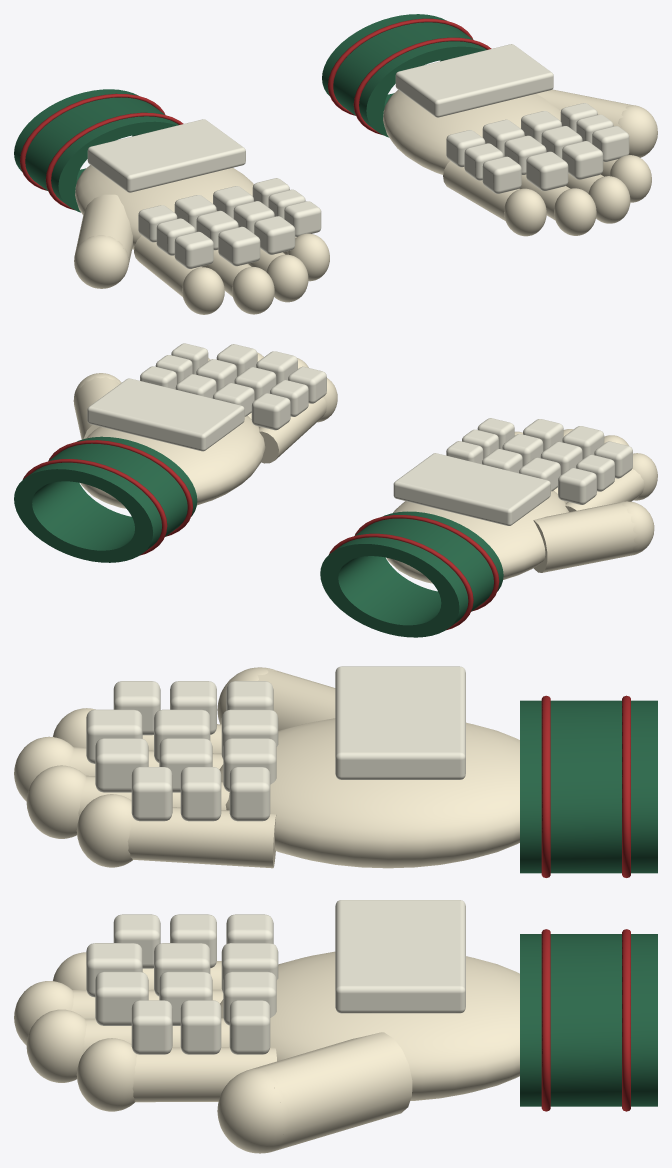
File: cricket-ground-and-pavilion-batting-glove-pair-bef5b89a__31316.glb
The picture shows the model from 3 angles, top to bottom: view 1: azimuth 30°, elevation 25°; view 2: azimuth 150°, elevation 25°; view 3: azimuth 270°, elevation 25°; orthographic projection. The views are drawn at different scales.
Visible parts, largest first — view 1: batting-glove-pair; view 2: batting-glove-pair; view 3: batting-glove-pair.
Boxes of the visible parts, box(x1,y1,x2,y2) form: batting-glove-pair: box(14, 14, 657, 314); batting-glove-pair: box(14, 343, 657, 637); batting-glove-pair: box(14, 666, 657, 1153).
Size of the model in its own units: 0.412 by 0.0657 by 0.2565.
